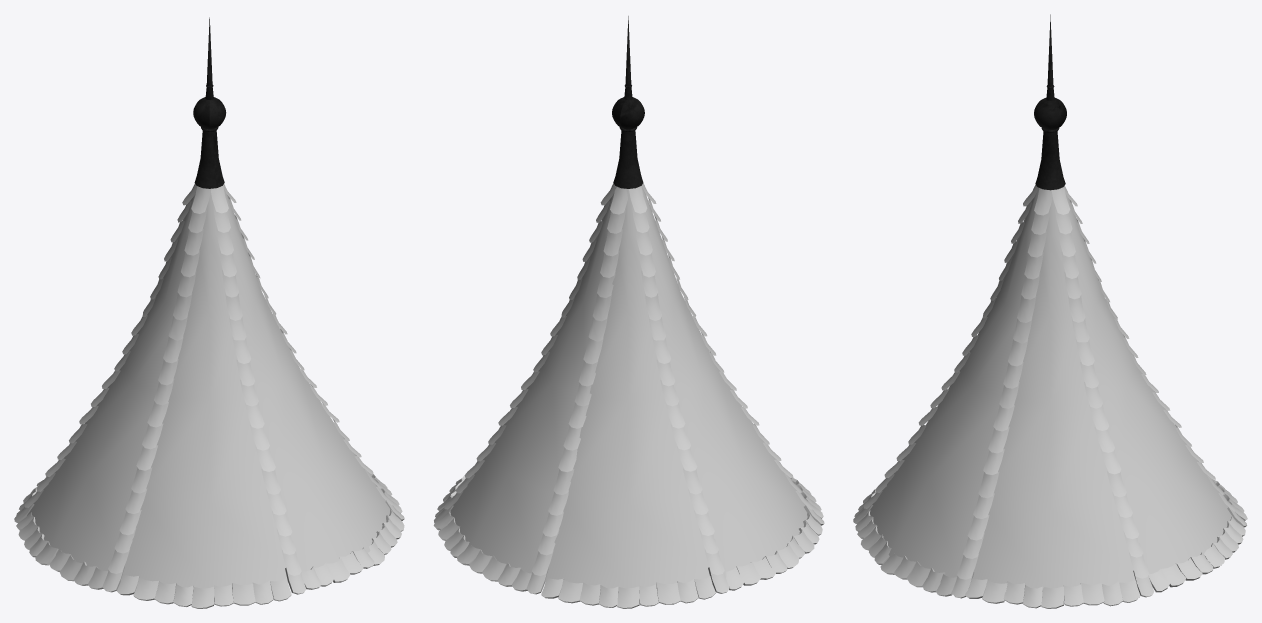
The model's file is Tower_Roof.fbx.
The picture shows the model from 3 angles, left to right: view 1: azimuth 30°, elevation 25°; view 2: azimuth 150°, elevation 25°; view 3: azimuth 270°, elevation 25°; orthographic projection.
Visible parts, largest first — view 1: Tower_Roof.047; view 2: Tower_Roof.047; view 3: Tower_Roof.047.
Boxes of the visible parts, x1,y1,x2,y2 form: Tower_Roof.047: [14, 17, 404, 608]; Tower_Roof.047: [433, 16, 824, 608]; Tower_Roof.047: [853, 14, 1247, 608].
Bounding box in the file's own units: 9.52 × 13.75 × 9.52.
